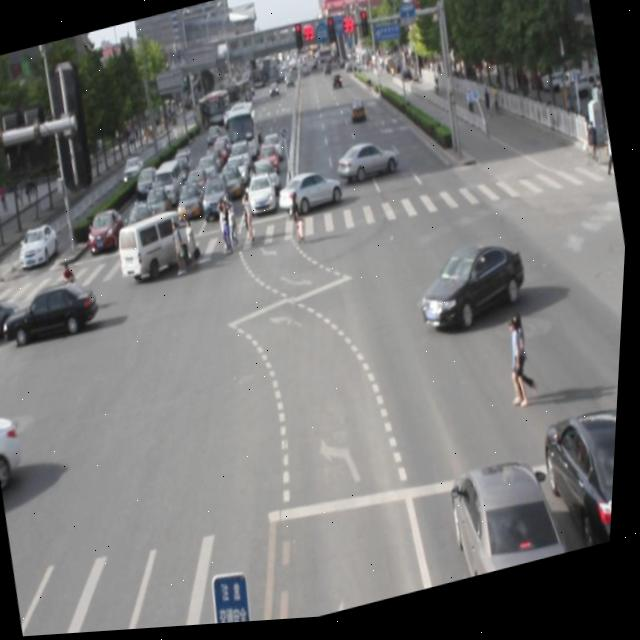car: (438, 450, 566, 590), (529, 397, 622, 566), (414, 238, 535, 342), (1, 277, 104, 348)
truck: (115, 206, 203, 283)
